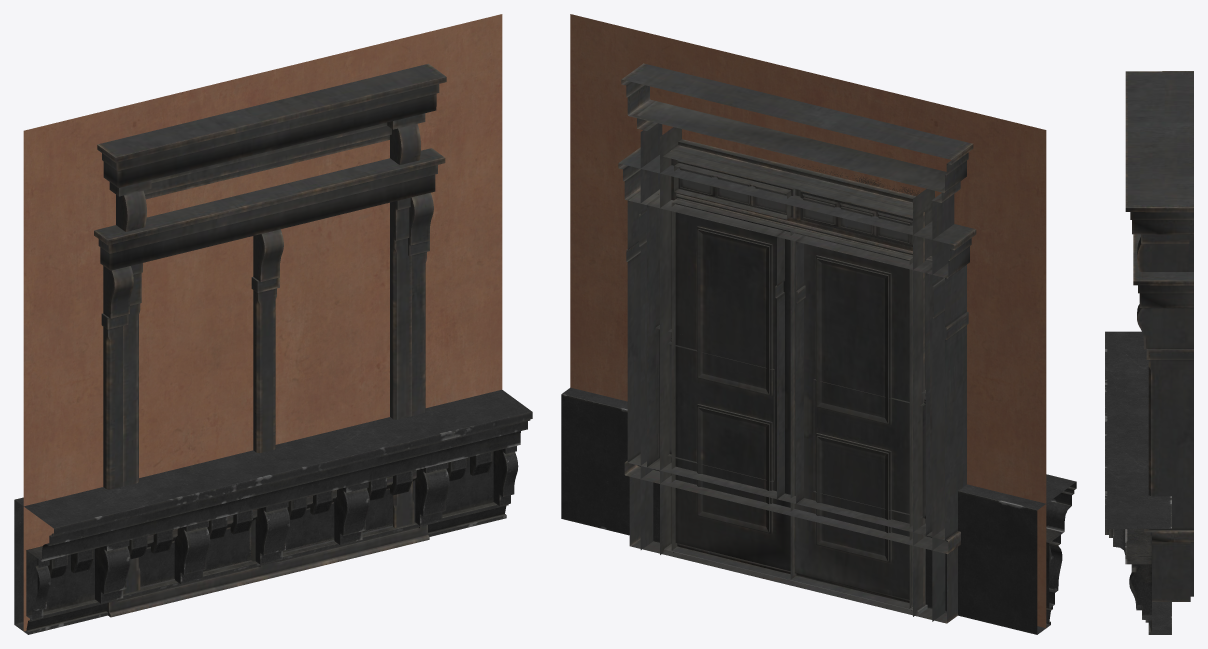
The model's file is la-facade-kit.glb.
3 views of the same model, side by side, from view 1: azimuth 30°, elevation 25°; view 2: azimuth 150°, elevation 25°; view 3: azimuth 270°, elevation 25° (orthographic). The views are drawn at different scales.
Parts seen in each view (by area): view 1: wall_door_centered_large_01, crown_standard_standard_01, wall_standard_standard_01, window_centered_large_01, door_centered_large_01, wall_window_centered_large_01; view 2: door_centered_large_01, wall_window_centered_large_01, window_centered_large_01, wall_standard_standard_01, crown_standard_standard_01, wall_door_centered_large_01; view 3: window_centered_large_01, door_centered_large_01, crown_standard_standard_01.
Boxes of the visible parts, box(x1,y1,x2,y2) form: wall_door_centered_large_01: box(23, 14, 502, 631); crown_standard_standard_01: box(14, 389, 532, 634); wall_standard_standard_01: box(23, 26, 502, 485); window_centered_large_01: box(94, 148, 445, 617); door_centered_large_01: box(97, 63, 446, 593); wall_window_centered_large_01: box(23, 21, 502, 549); door_centered_large_01: box(621, 63, 973, 621); wall_window_centered_large_01: box(570, 14, 1046, 627); window_centered_large_01: box(618, 147, 976, 623); wall_standard_standard_01: box(570, 15, 1046, 624); crown_standard_standard_01: box(561, 387, 1076, 634); wall_door_centered_large_01: box(570, 52, 1046, 555); window_centered_large_01: box(1133, 234, 1193, 601); door_centered_large_01: box(1125, 71, 1193, 596); crown_standard_standard_01: box(1105, 331, 1171, 634).
Size of the model in its own units: 3 by 3 by 0.57.
4 materials, 4 textured.
